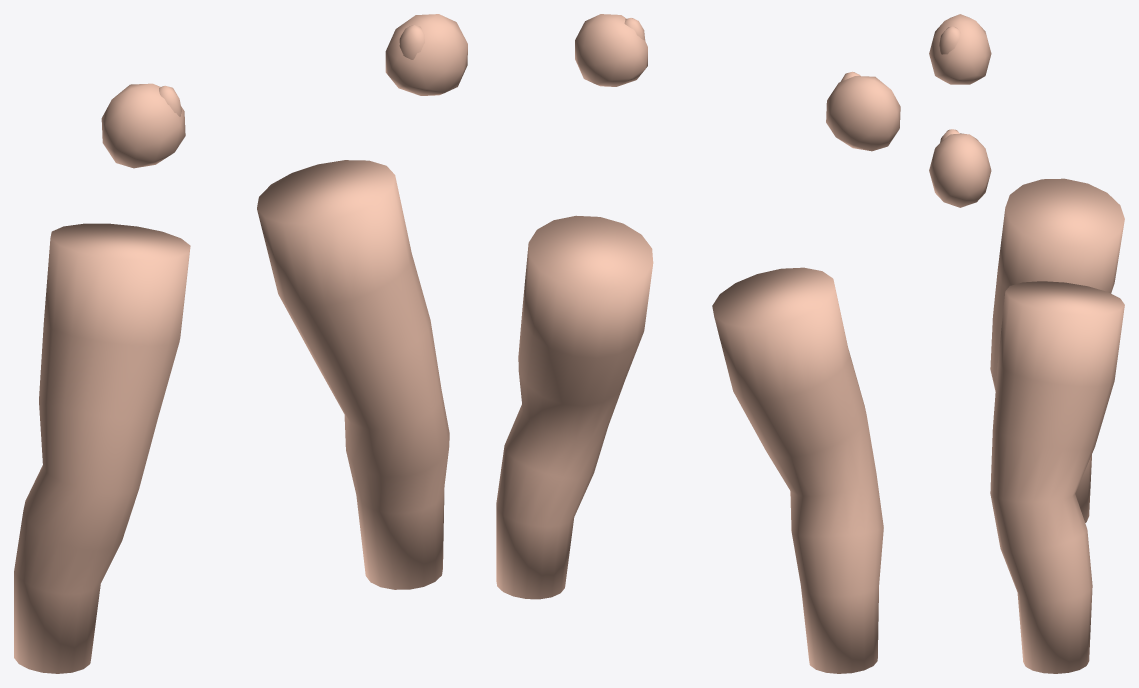
Rendered from body.glb.
The picture shows the model from 3 angles, left to right: view 1: azimuth 30°, elevation 25°; view 2: azimuth 150°, elevation 25°; view 3: azimuth 270°, elevation 25°; orthographic projection. The views are drawn at different scales.
Visible parts, largest first — view 1: Leg • shaped thigh knee calf.L, Leg • shaped thigh knee calf.R, Hand.L, Hand.R, Thumb.R; view 2: Leg • shaped thigh knee calf.L, Leg • shaped thigh knee calf.R, Hand.L, Hand.R; view 3: Leg • shaped thigh knee calf.R, Leg • shaped thigh knee calf.L, Hand.R, Hand.L, Thumb.L.
Part boxes in pixels (<box>): Leg • shaped thigh knee calf.L: <box>14,223,190,673</box>; Leg • shaped thigh knee calf.R: <box>257,160,449,589</box>; Hand.L: <box>101,83,185,168</box>; Hand.R: <box>385,14,467,95</box>; Thumb.R: <box>399,25,424,59</box>; Leg • shaped thigh knee calf.L: <box>712,267,883,673</box>; Leg • shaped thigh knee calf.R: <box>496,215,653,599</box>; Hand.L: <box>826,76,900,151</box>; Hand.R: <box>575,14,647,86</box>; Leg • shaped thigh knee calf.R: <box>990,281,1124,673</box>; Leg • shaped thigh knee calf.L: <box>990,178,1124,522</box>; Hand.R: <box>929,133,991,207</box>; Hand.L: <box>929,14,991,84</box>; Thumb.L: <box>939,26,960,54</box>.
Bounding box in the file's own units: 1.84 × 2.54 × 0.8782.
